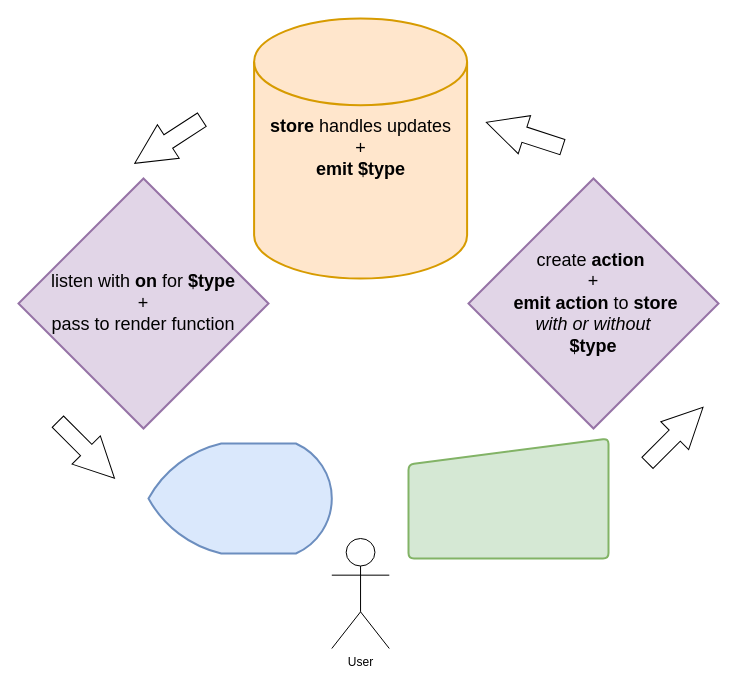
Some shapes in this 736 by 686 pixel diagram are drawn without their labels. Each missing label, with the box of its shape:
click: (407, 437, 609, 559)
new UI: (147, 442, 332, 554)
